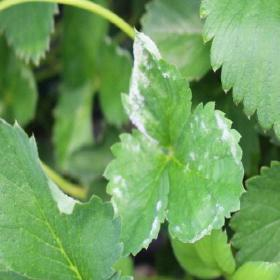Powdery Mildew Leaf: (0, 118, 125, 279), (165, 101, 247, 244), (120, 26, 193, 148), (102, 128, 170, 258)
